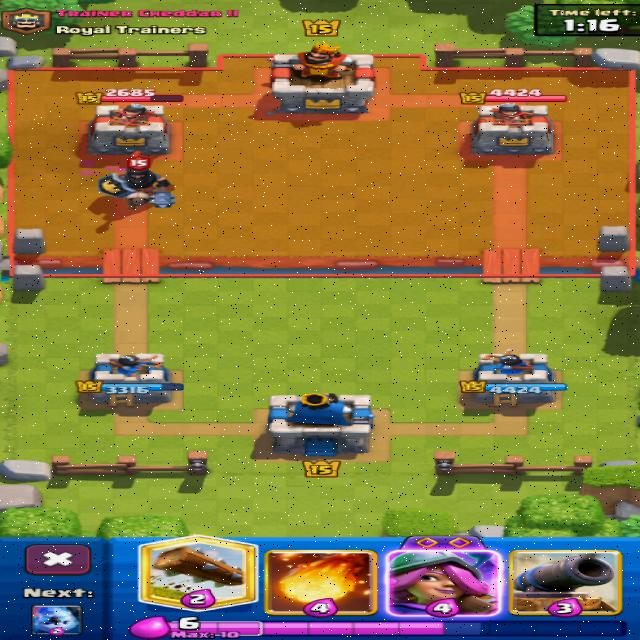Enemy-DarkPrince-Shield: (98, 152, 175, 208), (88, 105, 170, 154)
Enemy-KingTower: (269, 42, 373, 113)
Enemy-PrincessTower: (473, 103, 552, 155), (89, 103, 170, 153)
Player-KingTower: (268, 393, 373, 456)
Player-PrincessTower: (76, 355, 175, 407), (461, 354, 556, 406)
